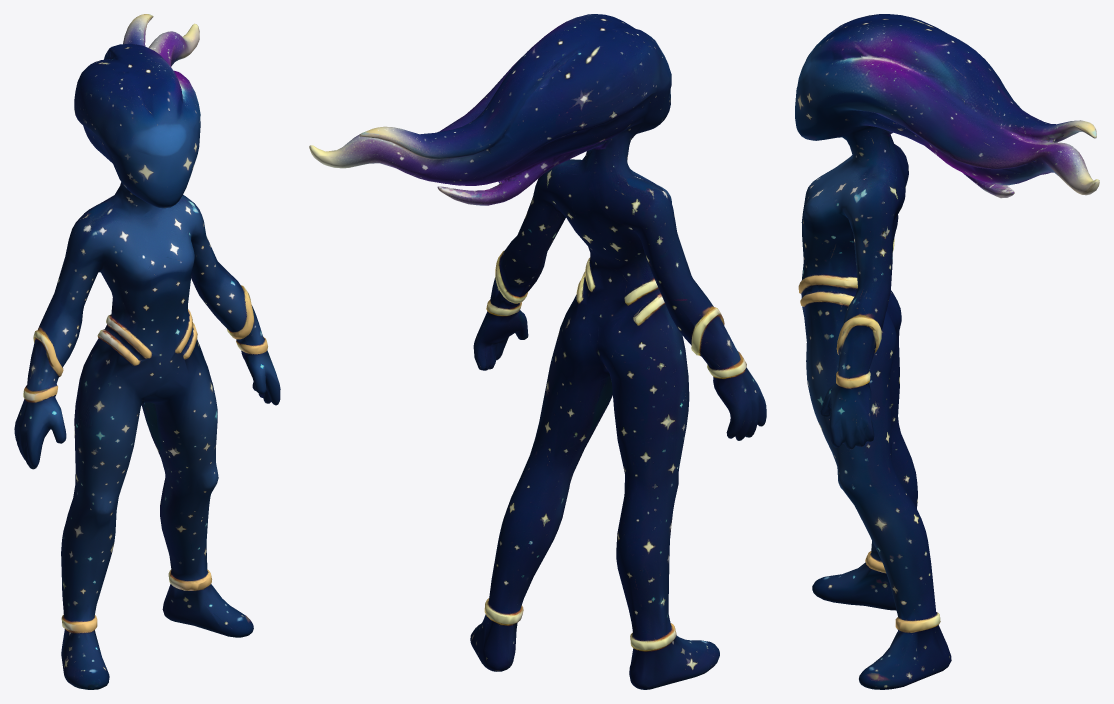
Rendered from nhyx.glb.
The picture shows the model from 3 angles, left to right: view 1: azimuth 30°, elevation 25°; view 2: azimuth 150°, elevation 25°; view 3: azimuth 270°, elevation 25°; orthographic projection. The views are drawn at different scales.
Parts seen in each view (by area): view 1: Mesh_0; view 2: Mesh_0; view 3: Mesh_0.
Boxes of the visible parts, box(x1,y1,x2,y2) form: Mesh_0: box(14, 14, 280, 689); Mesh_0: box(309, 14, 766, 689); Mesh_0: box(795, 14, 1099, 689).
Size of the model in its own units: 0.9888 by 1.9 by 0.8487.
Materials: 1 (1 with a texture image).
